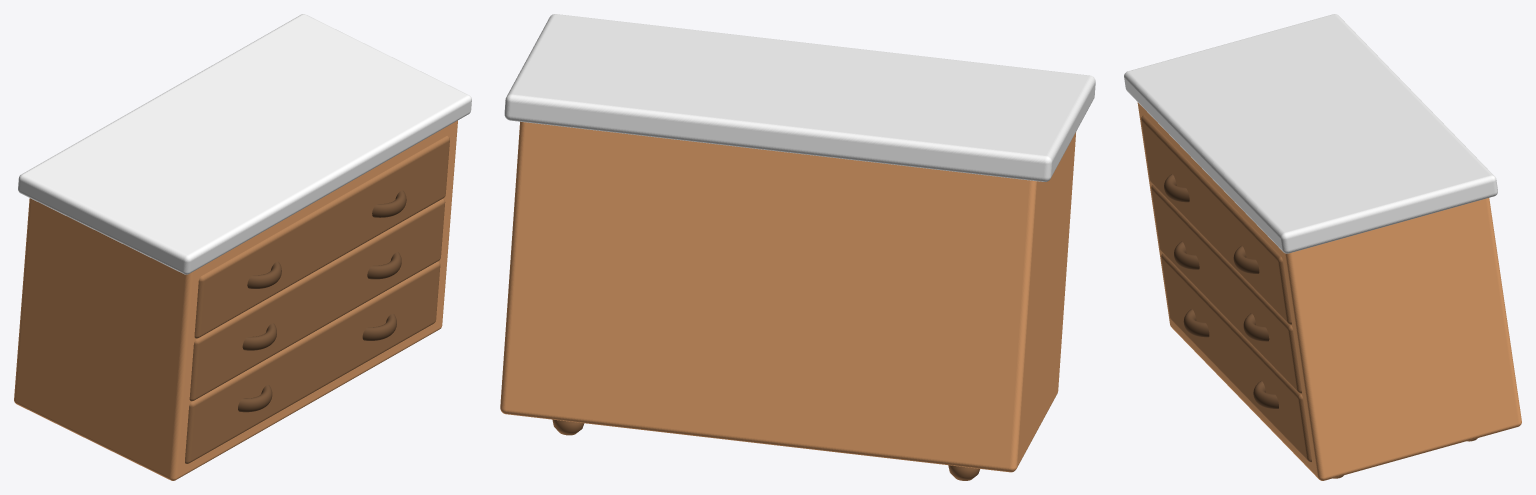
File: Dresser.fbx
3 renders of one model, left to right at view 1: azimuth 30°, elevation 25°; view 2: azimuth 150°, elevation 25°; view 3: azimuth 270°, elevation 25°, orthographic. The views are drawn at different scales.
Visible parts, largest first — view 1: Cube.076, Cube.078, Cube.077, Torus; view 2: Cube.077, Cube.076; view 3: Cube.077, Cube.076, Cube.078, Torus.
Boxes of the visible parts, <box> form: Cube.076: <box>18,14,471,274</box>; Cube.078: <box>185,135,449,463</box>; Cube.077: <box>14,120,457,480</box>; Torus: <box>238,190,406,412</box>; Cube.077: <box>500,121,1075,472</box>; Cube.076: <box>504,14,1095,181</box>; Cube.077: <box>1137,102,1521,480</box>; Cube.076: <box>1124,14,1497,253</box>; Cube.078: <box>1141,115,1311,462</box>; Torus: <box>1164,174,1278,408</box>.
Bounding box in the file's own units: 531 × 357 × 412.
